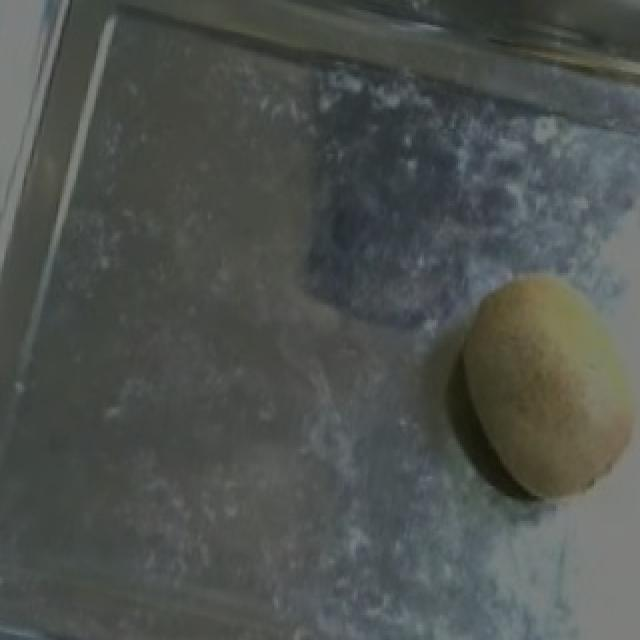Fruit: (432, 246, 640, 524)
